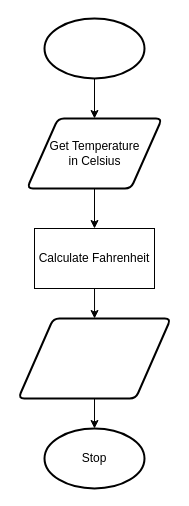
This 189x506 diagram has some shape labels left out. Each missing label, with the centre of its shape:
"Show Temperature in Fahrenheit" goes at pixel 94 358.
"Start" goes at pixel 94 48.
